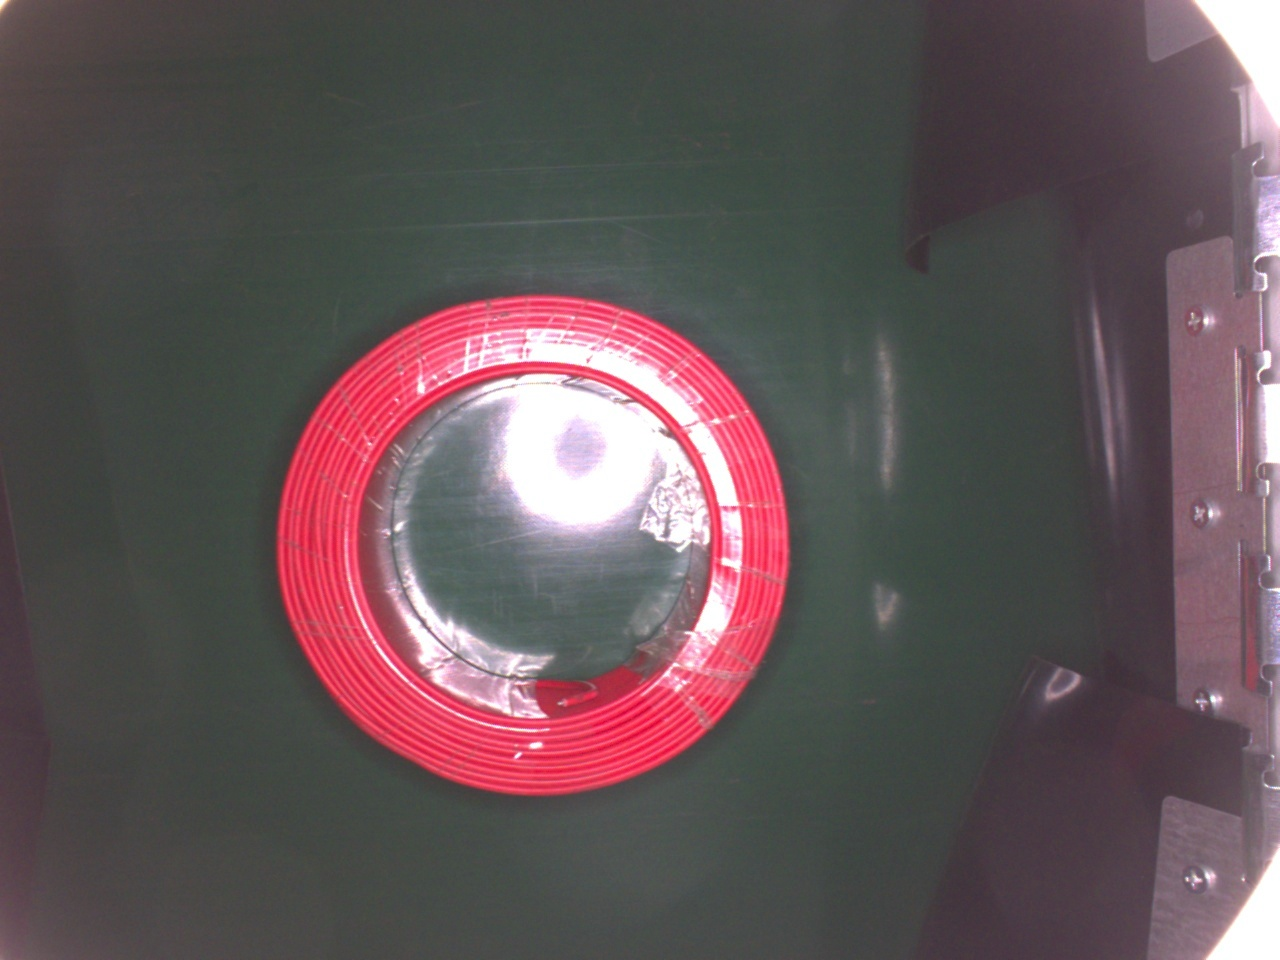red: (277, 291, 789, 791)
